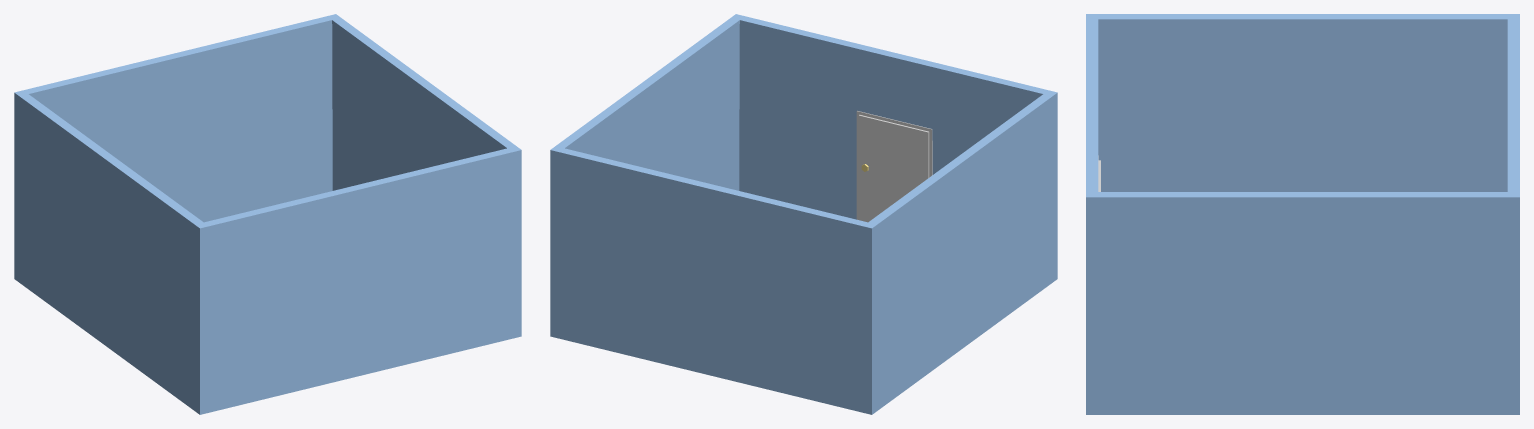
Rendered from final_room_empty.glb.
The picture shows the model from 3 angles, left to right: view 1: azimuth 30°, elevation 25°; view 2: azimuth 150°, elevation 25°; view 3: azimuth 270°, elevation 25°; orthographic projection. The views are drawn at different scales.
Visible parts, largest first — view 1: Cube; view 2: Cube, door_final2; view 3: Cube.
Boxes of the visible parts, x1=… form: Cube: x1=14, y1=14, x2=521, y2=414; Cube: x1=550, y1=14, x2=1057, y2=414; door_final2: x1=856, y1=111, x2=932, y2=222; Cube: x1=1086, y1=14, x2=1519, y2=414.
Size of the model in its own units: 19.85 by 11 by 19.85.
